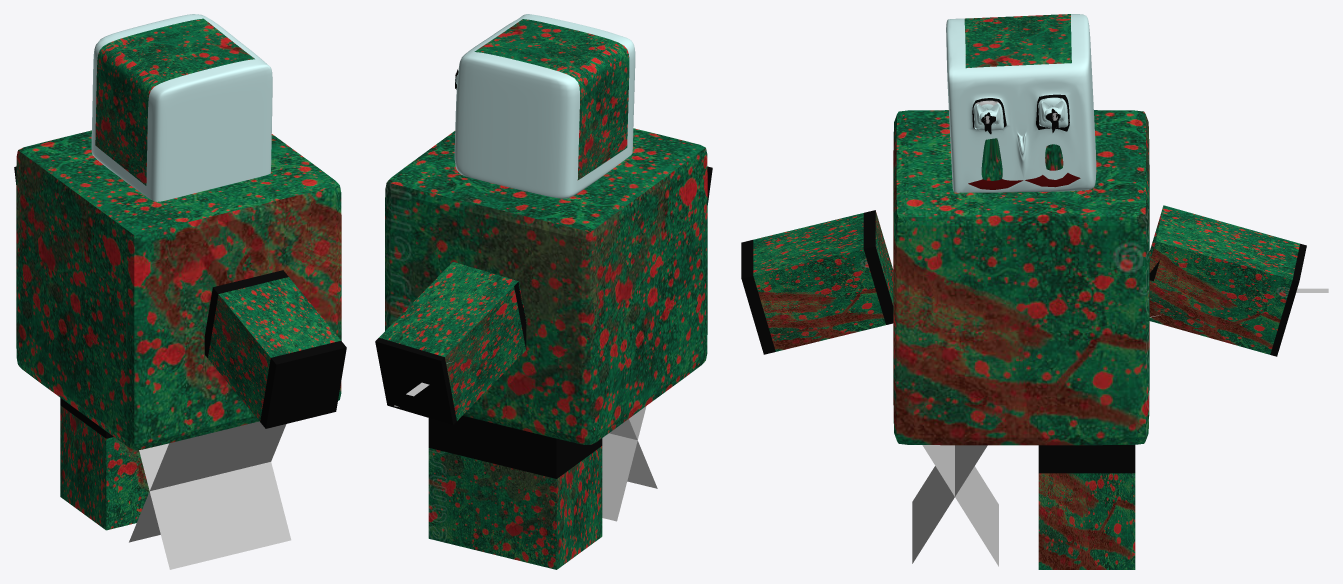
The picture shows the model from 3 angles, left to right: view 1: azimuth 30°, elevation 25°; view 2: azimuth 150°, elevation 25°; view 3: azimuth 270°, elevation 25°; orthographic projection. The views are drawn at different scales.
Visible parts, largest first — view 1: Cube_Cube.001, Cube.001_Cube.002, Cube.005_Cube.007, RectLL1.001_Plane.011, Cube.003_Cube.004, RectRL1_Plane.009; view 2: Cube_Cube.001, Cube.001_Cube.002, Cube.003_Cube.004, Cube.004_Cube.005, RectRL1_Plane.009, RectLL1.001_Plane.011; view 3: Cube_Cube.001, Cube.001_Cube.002, Cube.004_Cube.005, Cube.005_Cube.007, Cube.003_Cube.004, RectRL1_Plane.009, RectLL1.001_Plane.011.
Part boxes in pixels (bbox=[...]): Cube_Cube.001: bbox=[16, 130, 341, 449]; Cube.001_Cube.002: bbox=[91, 14, 272, 201]; Cube.005_Cube.007: bbox=[204, 270, 346, 428]; RectLL1.001_Plane.011: bbox=[139, 443, 291, 569]; Cube.003_Cube.004: bbox=[60, 398, 149, 530]; RectRL1_Plane.009: bbox=[129, 421, 286, 542]; Cube_Cube.001: bbox=[385, 128, 707, 444]; Cube.001_Cube.002: bbox=[454, 14, 635, 198]; Cube.003_Cube.004: bbox=[428, 415, 602, 569]; Cube.004_Cube.005: bbox=[375, 261, 526, 424]; RectRL1_Plane.009: bbox=[602, 406, 646, 521]; RectLL1.001_Plane.011: bbox=[609, 419, 657, 488]; Cube_Cube.001: bbox=[893, 110, 1149, 445]; Cube.001_Cube.002: bbox=[946, 14, 1096, 192]; Cube.004_Cube.005: bbox=[1149, 205, 1306, 356]; Cube.005_Cube.007: bbox=[741, 210, 893, 354]; Cube.003_Cube.004: bbox=[1038, 445, 1135, 569]; RectRL1_Plane.009: bbox=[922, 445, 998, 566]; RectLL1.001_Plane.011: bbox=[912, 445, 987, 563].
Size of what is drawn, in the model's own units: 1.46 by 3.14 by 3.34.
14 materials, 1 textured.
